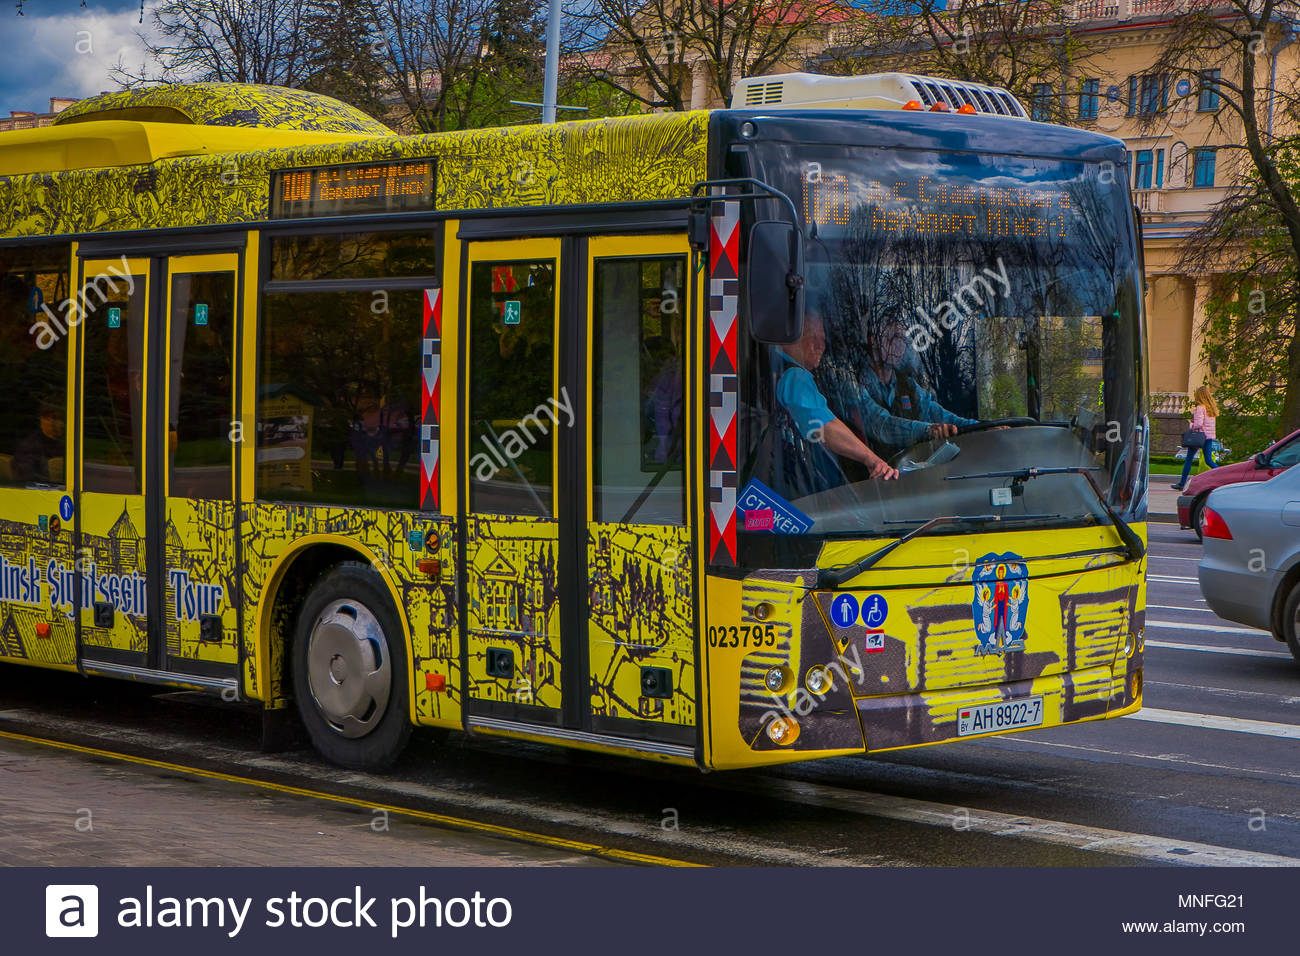bus: (8, 77, 1148, 771)
